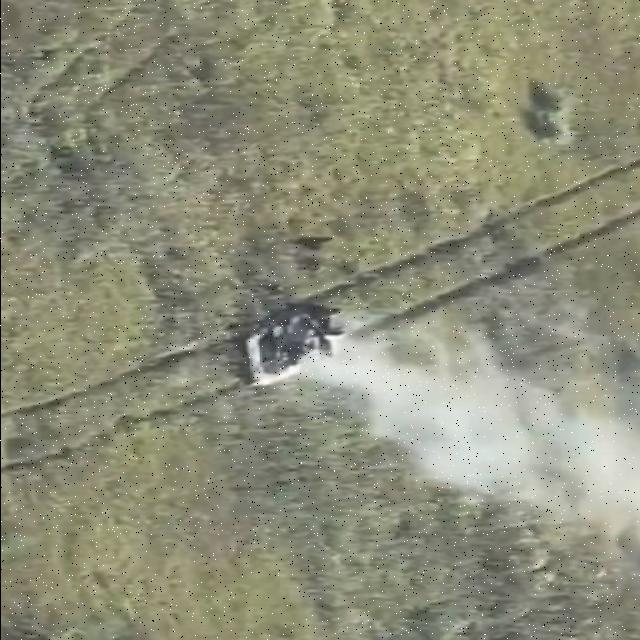APC-IFV: (222, 302, 346, 392)
